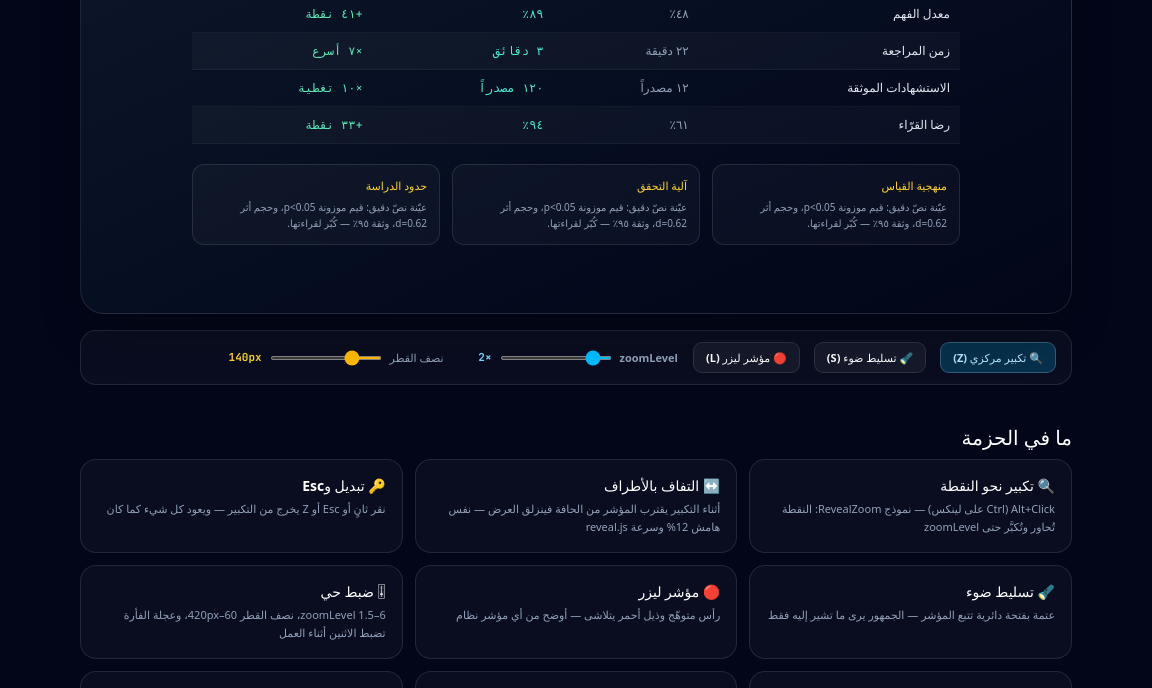
Scenario: مختبر التكبير والتركيز — ?lab=spotlight › يُركّب: ترويسة + جدول كثيف + أدوات تجربة + ميزات
(page scrolled)
Expected: the button with test id "lab-spotlight" is shown, 815,343 -> 925,372
Expected: the button with test id "lab-laser" is shown, 694,343 -> 799,372
التكبير المركزي من أداة المختبر
Click the button with test id "lab-zoom". click: (998, 358)
box: 941,343 -> 1055,372
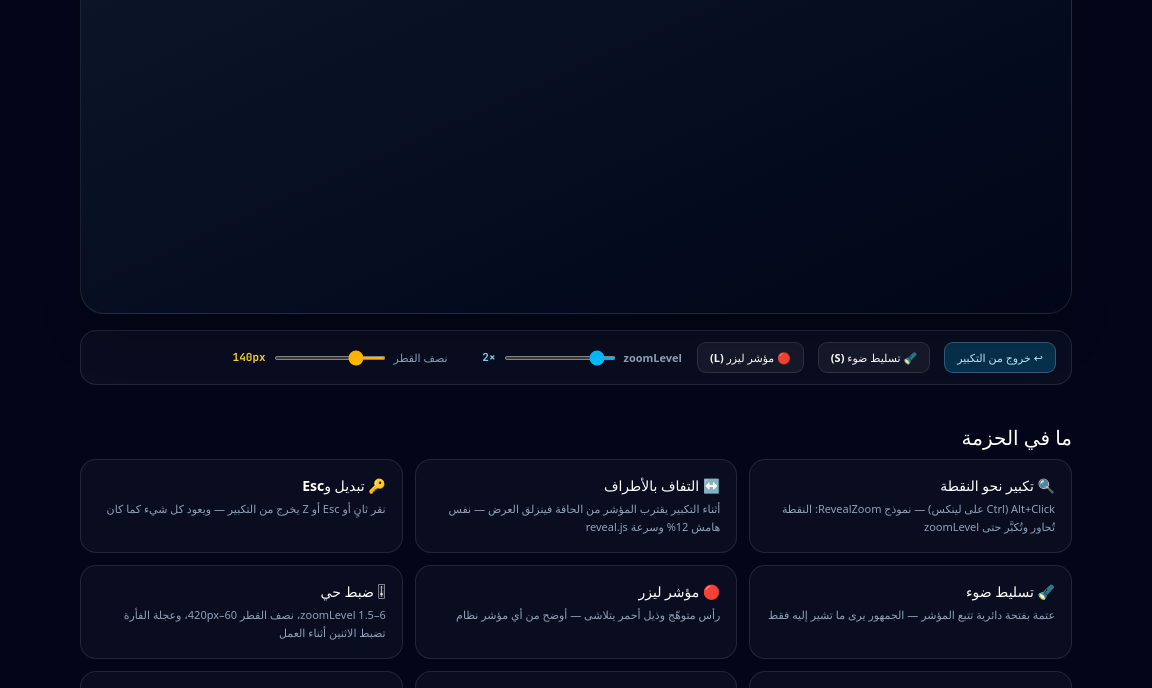
التسليط من أداة المختبر
Click the button with test id "lab-spotlight". click: (874, 358)
box: 819,343 -> 929,372
(page scrolled)
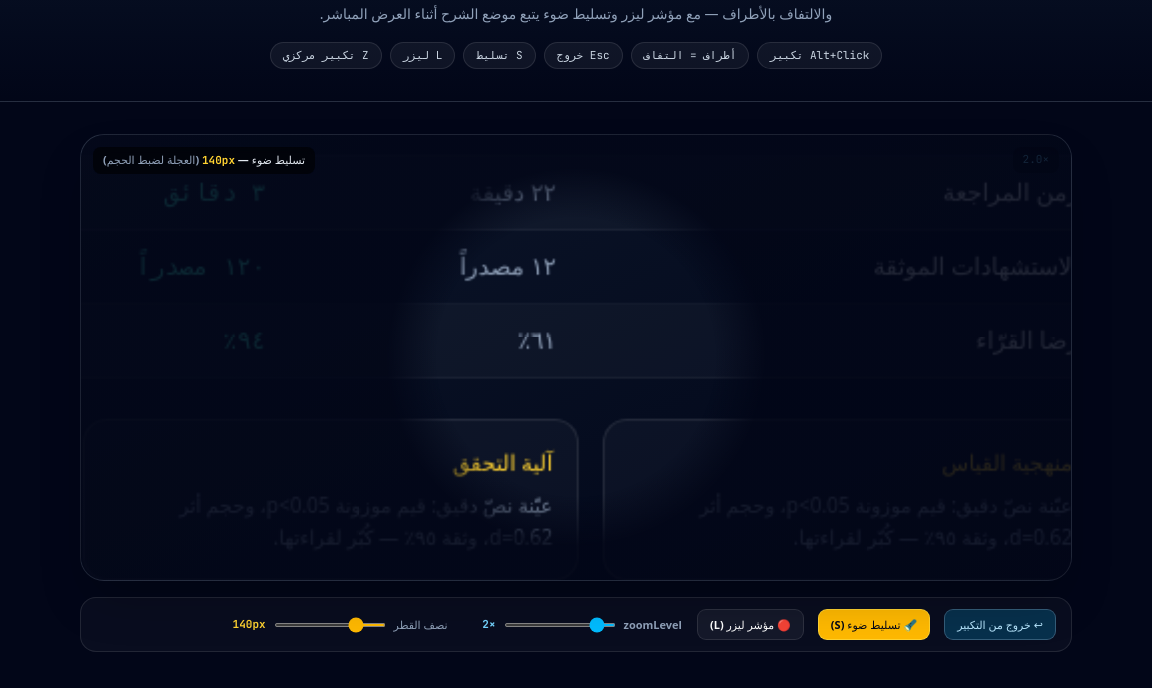
Now the element with test id "spotlight-spot" is shown, box 81,136 -> 1071,580
